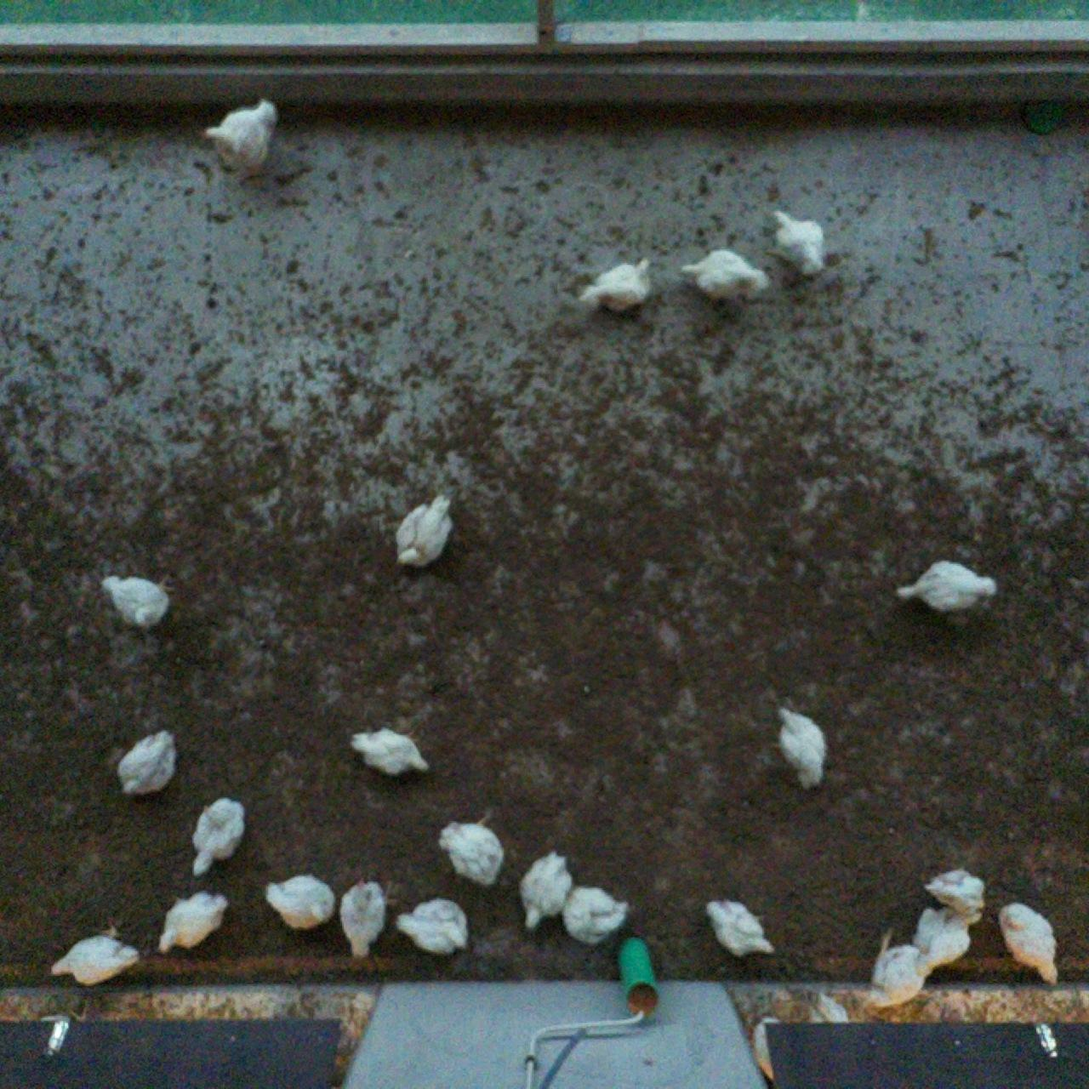chicken: (198, 95, 284, 194), (893, 558, 999, 621), (864, 928, 939, 1016), (681, 241, 776, 310), (49, 922, 143, 990), (994, 897, 1062, 988), (389, 489, 457, 572), (438, 811, 509, 890), (772, 701, 831, 795), (96, 570, 176, 638), (111, 725, 180, 802), (154, 888, 229, 957), (766, 204, 830, 284), (576, 251, 653, 317), (187, 794, 247, 878), (911, 904, 984, 971), (519, 849, 575, 934), (260, 872, 338, 933), (703, 894, 777, 958), (397, 895, 472, 956), (563, 882, 632, 948), (350, 723, 429, 779), (338, 873, 388, 961), (745, 1013, 791, 1086), (924, 862, 986, 916), (803, 988, 850, 1031)
